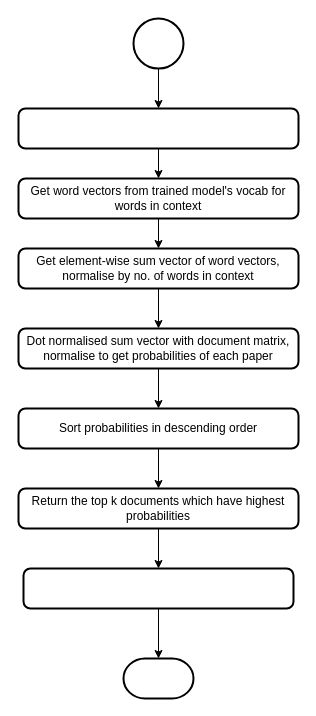
Some shapes in this 316 by 716 pixel diagram are drawn without their labels. Each missing label, with the centre of its shape:
"Clean unseen test context: remove stop words etc." goes at point 158,128.
"Get the metadata for the recommended documents from MAG" goes at point 158,588.
